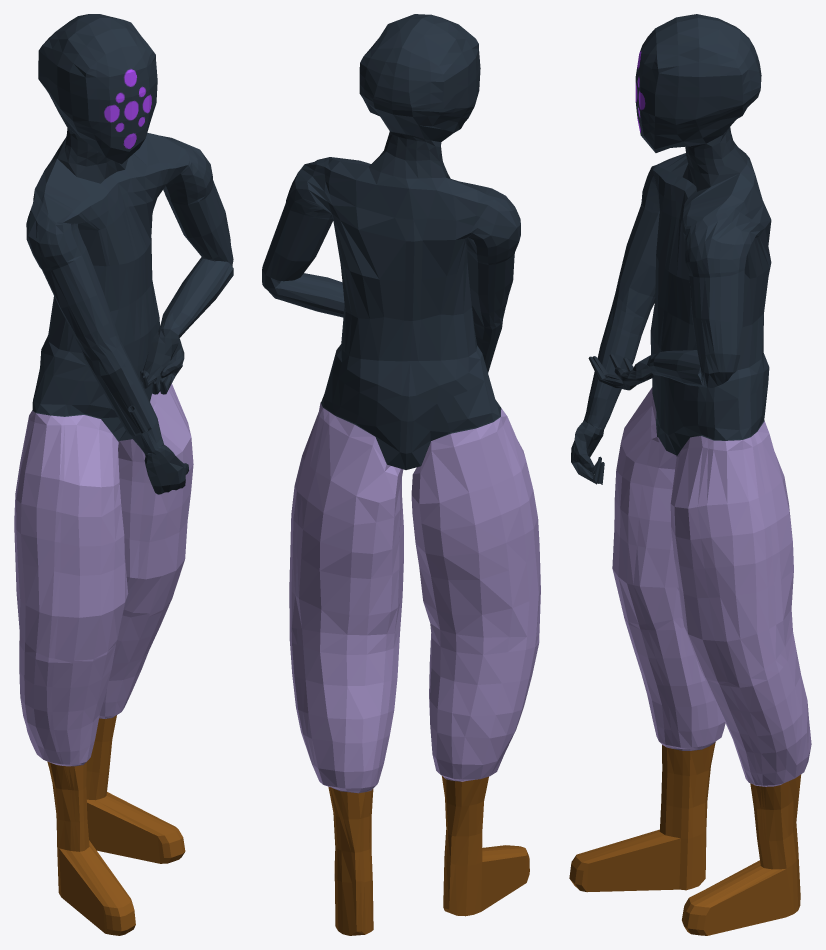
The model's file is Oracle_Reload_000022.obj.
The picture shows the model from 3 angles, left to right: view 1: azimuth 30°, elevation 25°; view 2: azimuth 150°, elevation 25°; view 3: azimuth 270°, elevation 25°; orthographic projection. The views are drawn at different scales.
Visible parts, largest first — view 1: Cube; view 2: Cube; view 3: Cube.
Part boxes in pixels (bbox=[...]): Cube: bbox=[14, 14, 233, 935]; Cube: bbox=[262, 14, 540, 935]; Cube: bbox=[569, 14, 811, 935].
Bounding box in the file's own units: 1.12 × 3.94 × 0.9762.
